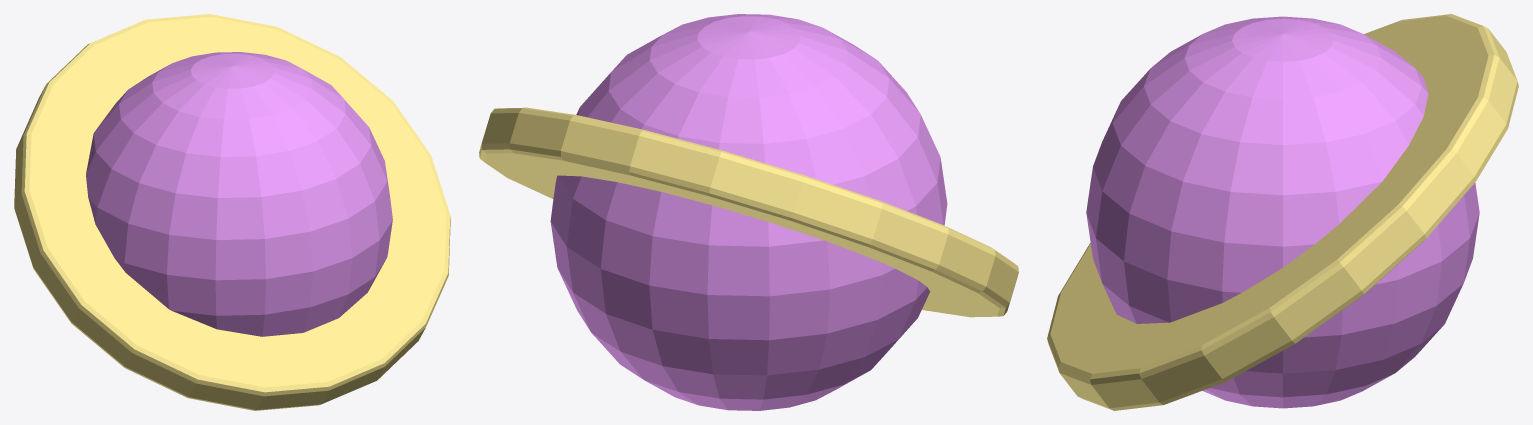
The model's file is ImperialRelic.fbx.
3 renders of one model, left to right at view 1: azimuth 30°, elevation 25°; view 2: azimuth 150°, elevation 25°; view 3: azimuth 270°, elevation 25°, orthographic. The views are drawn at different scales.
Visible parts, largest first — view 1: MainMesh; view 2: MainMesh; view 3: MainMesh.
Boxes of the visible parts, x1=… form: MainMesh: x1=14, y1=14, x2=450, y2=410; MainMesh: x1=479, y1=14, x2=1018, y2=410; MainMesh: x1=1047, y1=14, x2=1518, y2=410.
Bounding box in the file's own units: 2.1 × 1.5 × 1.8.
